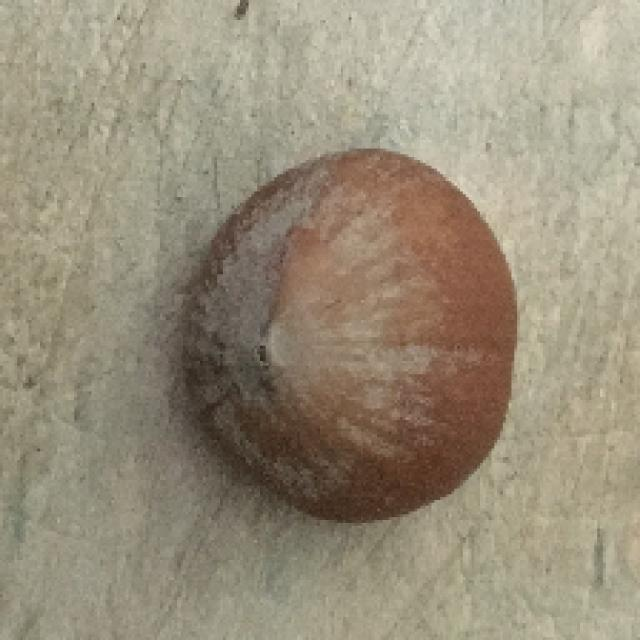qualityHazelnut: (180, 149, 523, 524)
